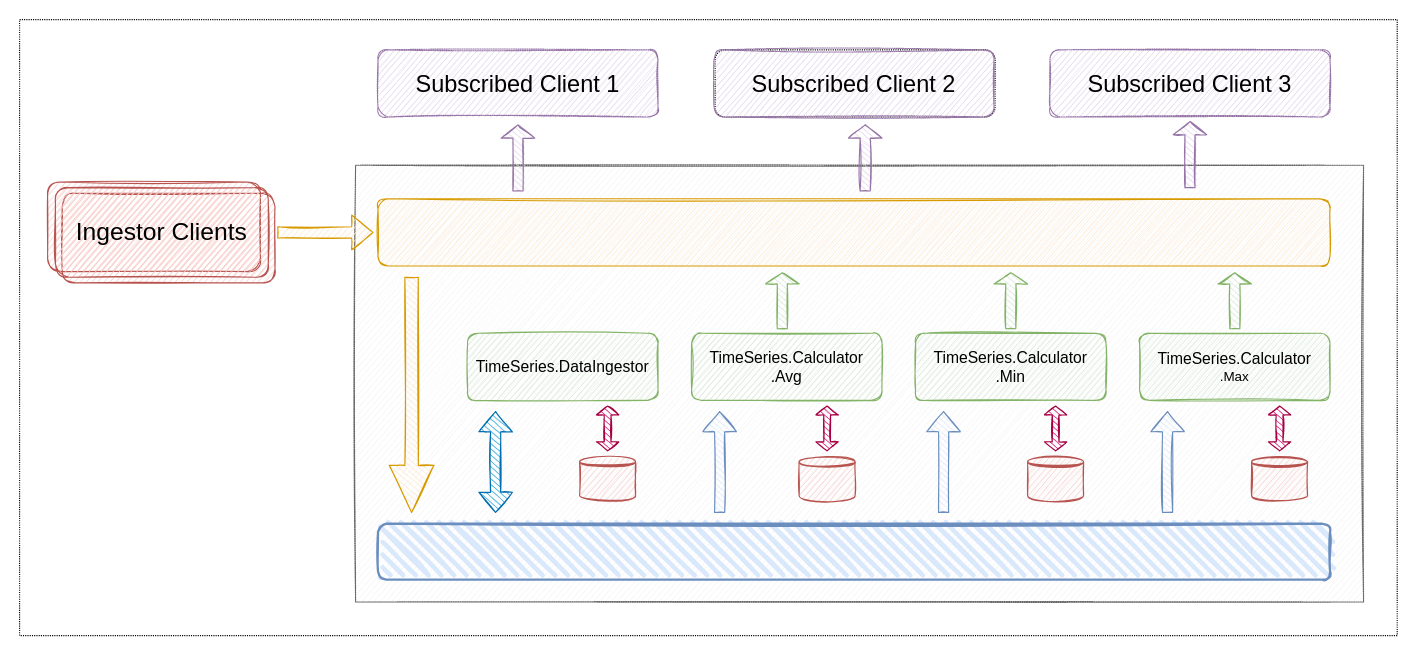
This 1417x655 diagram has some shape labels left out. Here are the shapes that lost their labels. From the top down, the centre of each, then its label:
At pixel 853 232: "TimeSeries.API".
At pixel 853 551: "Message Broker".
